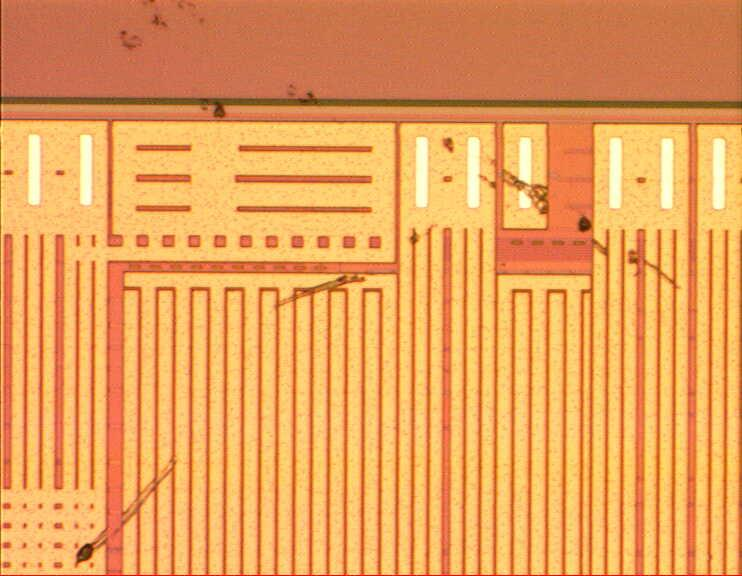SCRATCH: (58, 1, 688, 576)
